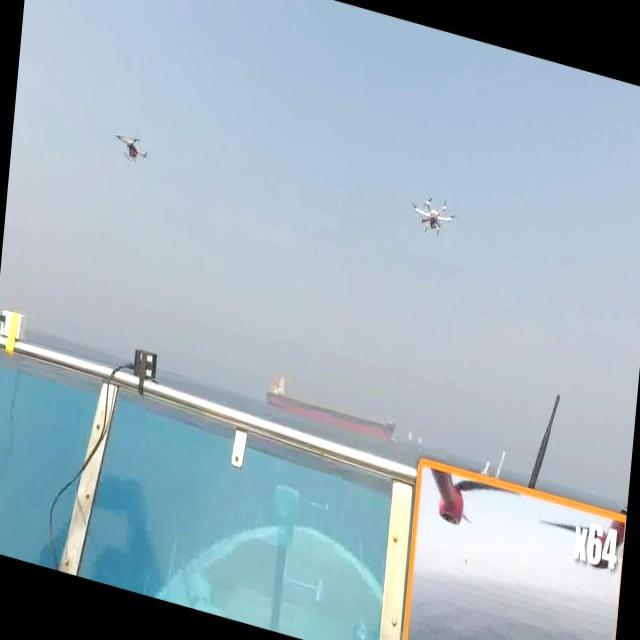drone: (407, 187, 460, 249), (110, 124, 152, 178)
